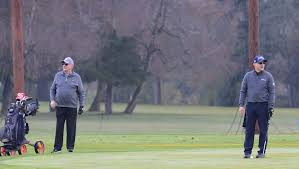Good: (49, 55, 275, 159)
